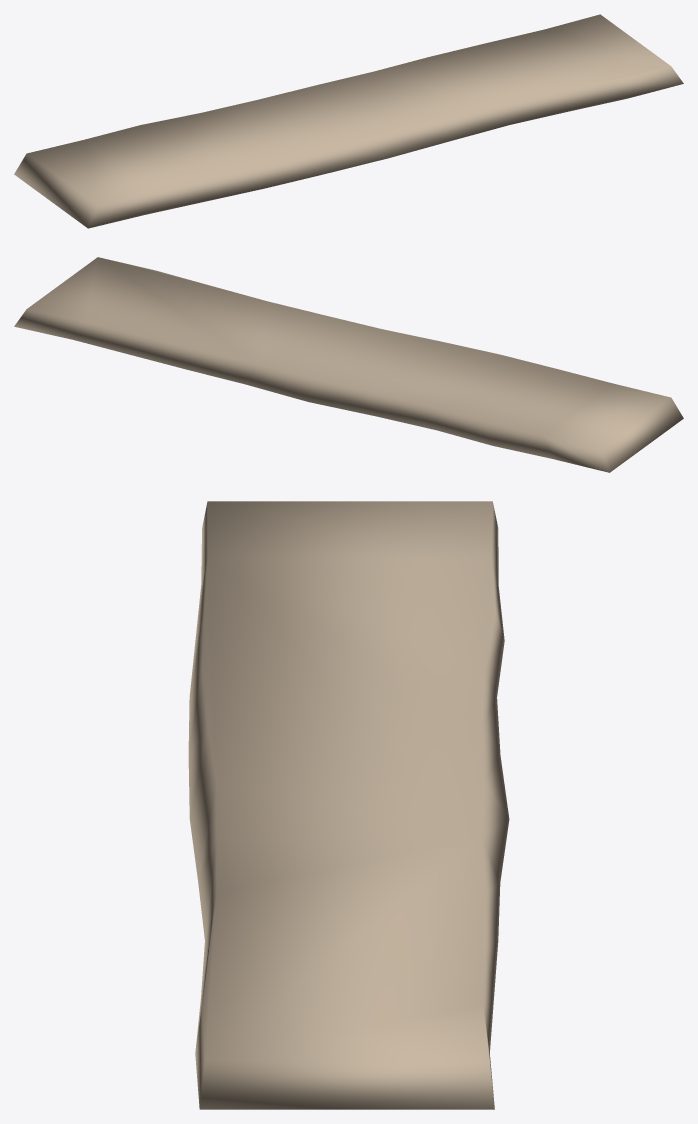
File: bench_tapered_smooth.glb
The picture shows the model from 3 angles, top to bottom: view 1: azimuth 30°, elevation 25°; view 2: azimuth 150°, elevation 25°; view 3: azimuth 270°, elevation 25°; orthographic projection. The views are drawn at different scales.
Parts seen in each view (by area): view 1: TableTop; view 2: TableTop; view 3: TableTop.
Part boxes in pixels (left/top/right/bottom): TableTop: left=14, top=14, right=683, bottom=228; TableTop: left=14, top=257, right=683, bottom=472; TableTop: left=188, top=501, right=509, bottom=1109.
Bounding box in the file's own units: 2.6 × 0.08 × 0.6062.
